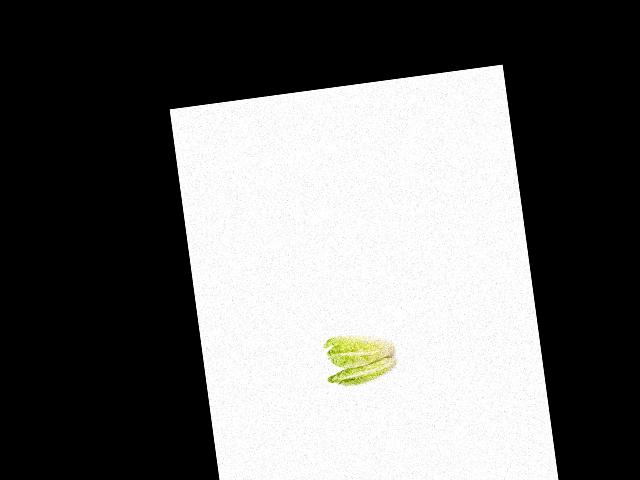lettuce: (324, 354, 403, 395)
